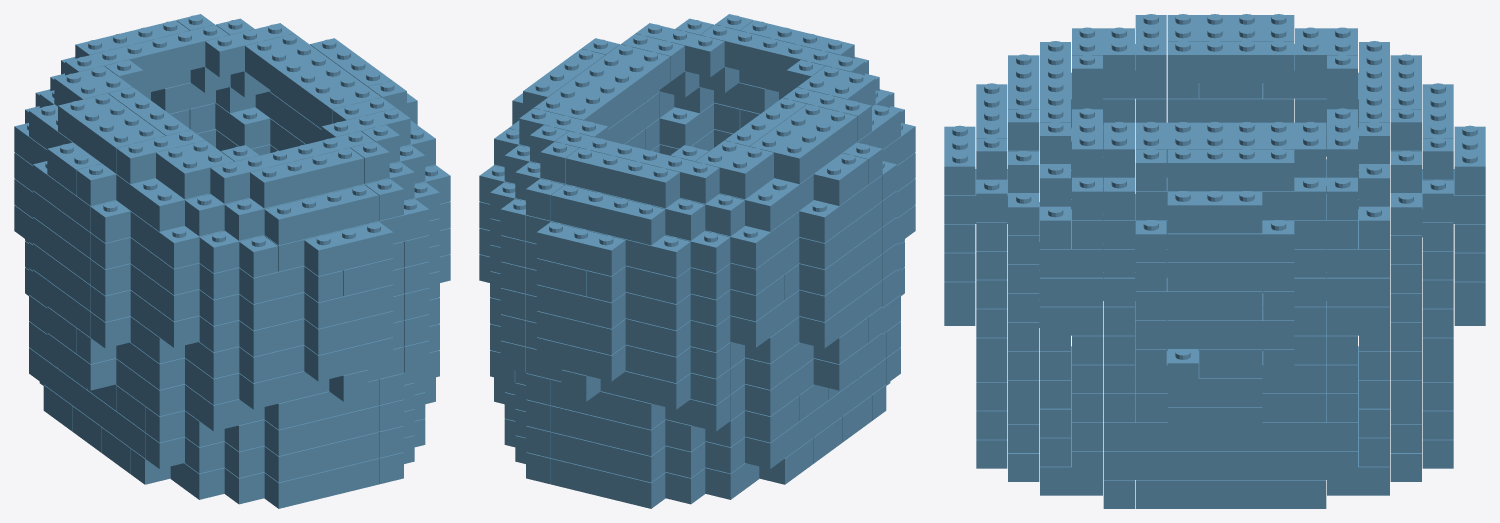
The model's file is 190_mug_L5.glb.
The picture shows the model from 3 angles, left to right: view 1: azimuth 30°, elevation 25°; view 2: azimuth 150°, elevation 25°; view 3: azimuth 270°, elevation 25°; orthographic projection. The views are drawn at different scales.
Bounding box in the file's own units: 13.98 × 12.13 × 16.98.
